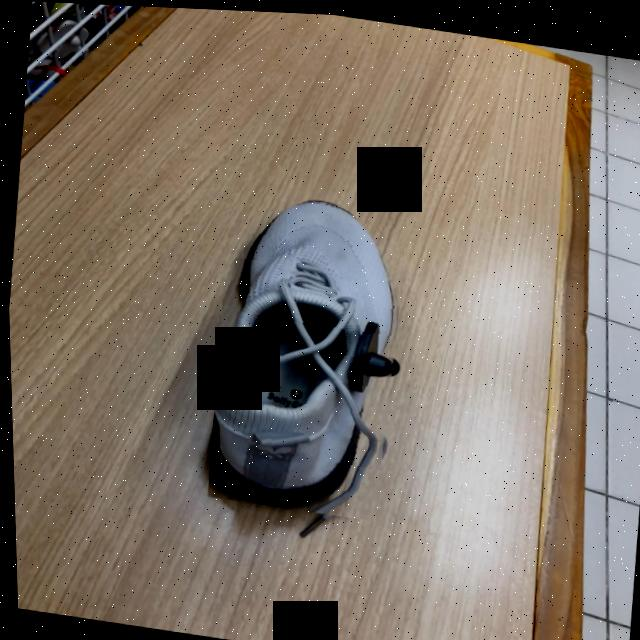shoe: (207, 199, 394, 509)
